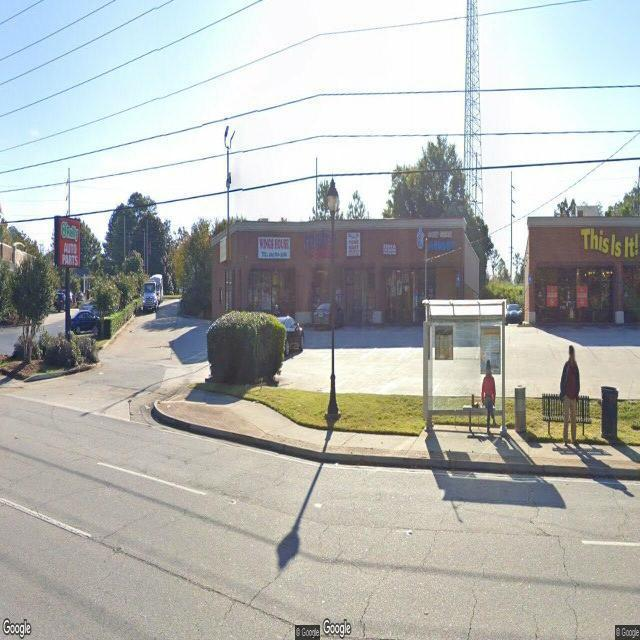seating: (542, 392, 592, 438), (462, 401, 497, 434)
shelter: (422, 298, 508, 438)
trash_can: (600, 386, 618, 440), (514, 384, 526, 432)
